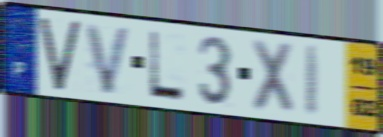3: (196, 34, 236, 108)
I: (304, 43, 322, 119)
L: (147, 28, 187, 104)
V: (83, 21, 134, 97), (37, 17, 83, 93)
X: (250, 36, 296, 118)
